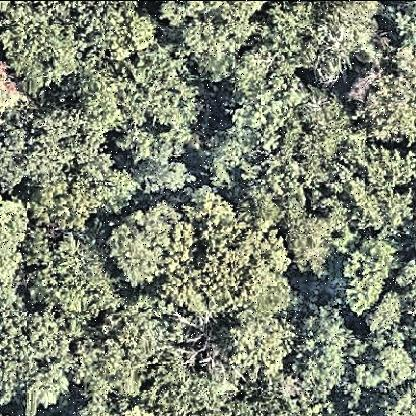tree-top: (160, 189, 244, 323), (260, 2, 382, 82), (30, 109, 109, 229), (120, 47, 195, 161), (354, 13, 416, 148), (213, 75, 297, 174), (1, 312, 77, 416), (162, 2, 256, 86), (3, 3, 82, 95), (31, 233, 113, 320), (91, 304, 169, 394), (108, 197, 178, 293), (346, 143, 416, 235), (230, 231, 298, 317), (142, 356, 239, 416), (284, 92, 346, 181), (297, 302, 353, 396), (341, 233, 395, 317), (227, 313, 295, 375), (1, 188, 39, 292), (81, 56, 129, 134), (126, 151, 195, 205), (288, 213, 336, 282), (354, 341, 416, 393), (1, 102, 37, 182), (108, 8, 154, 64)
